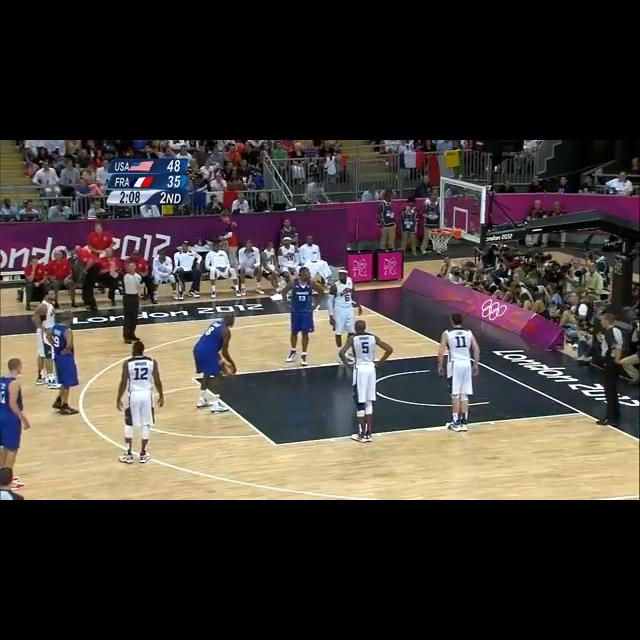basketball: (218, 361, 237, 378)
hoop: (426, 223, 455, 255)
person: (338, 318, 388, 444), (115, 339, 164, 465), (439, 315, 482, 432), (193, 312, 238, 413), (282, 267, 316, 367), (120, 259, 146, 343), (86, 220, 116, 258), (606, 170, 634, 194), (49, 200, 73, 222), (19, 199, 41, 221), (0, 197, 18, 221), (232, 192, 251, 213)
